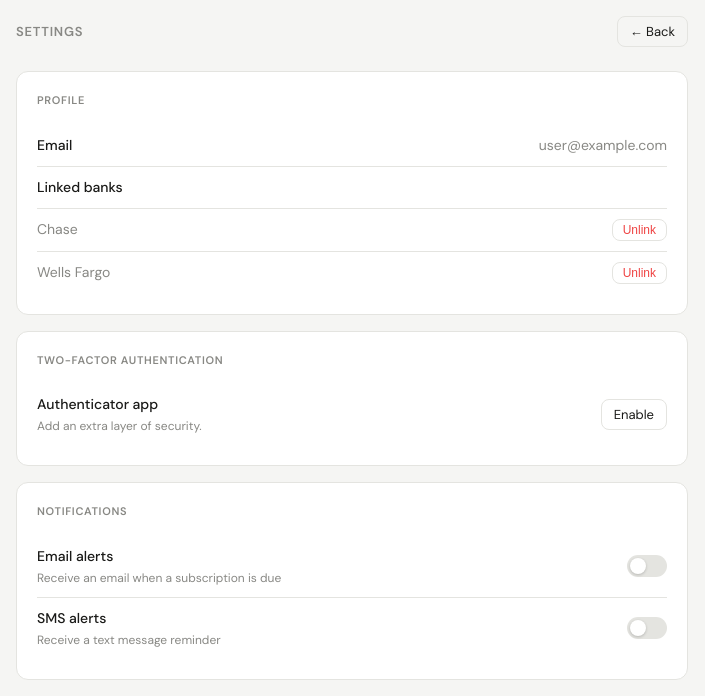
Test: Settings — unlink account › shows error when unlink fails
Check: the text "Chase" is shown, box [37,219,78,240]
Click the button with aria-label "unlink chase" at (639, 230), box [612,218,667,240]
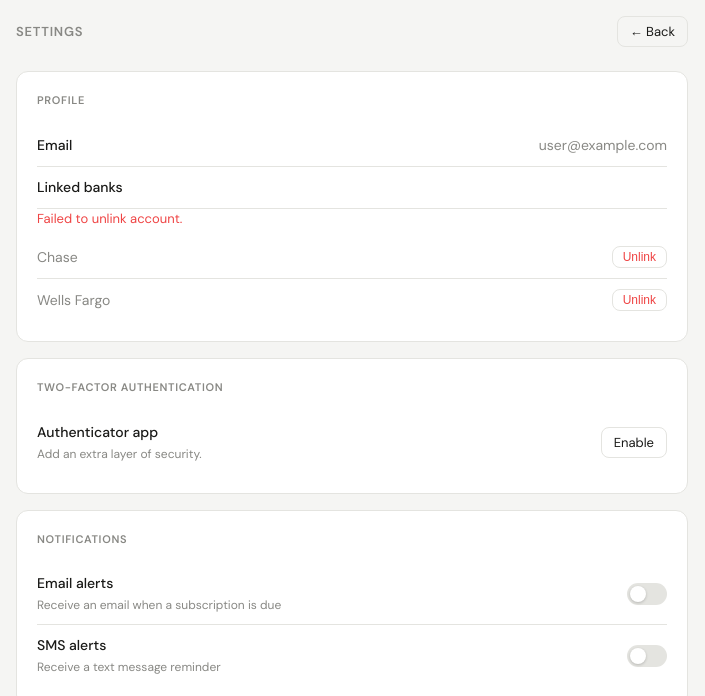
Check: the text "Failed to unlink account." is shown, box [37,210,182,226]
